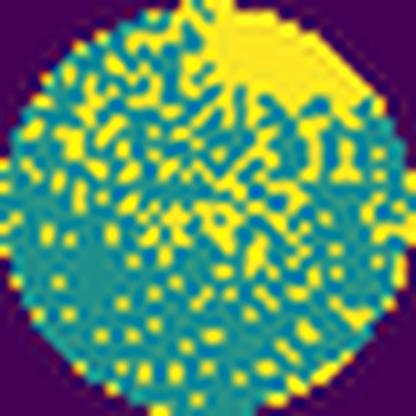Edge-Loc: (125, 0, 390, 128)
